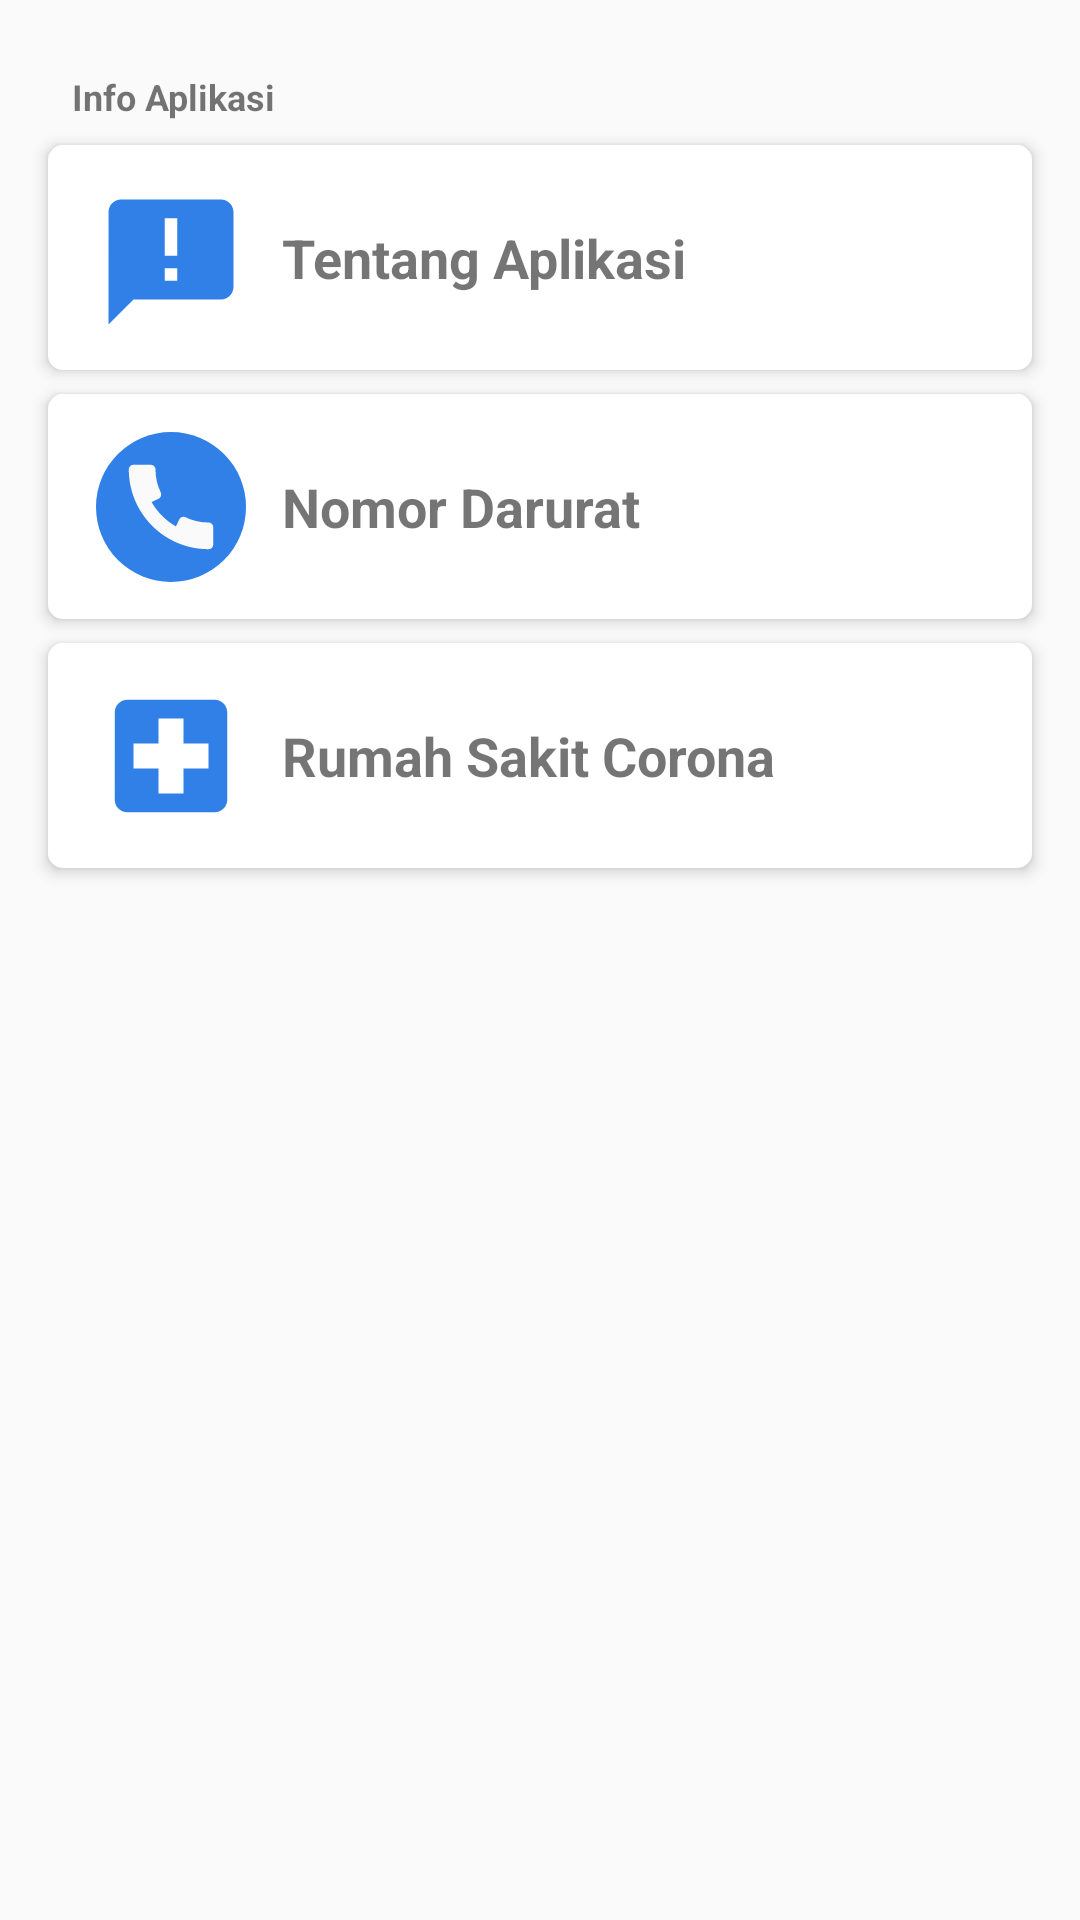

Screen size 1080px×1920px. Icon name, then its box in pixels as (x1, y1, x2, y2):
announcement: (108, 199, 234, 324)
call: (96, 432, 246, 582)
local hospital: (114, 699, 228, 813)
